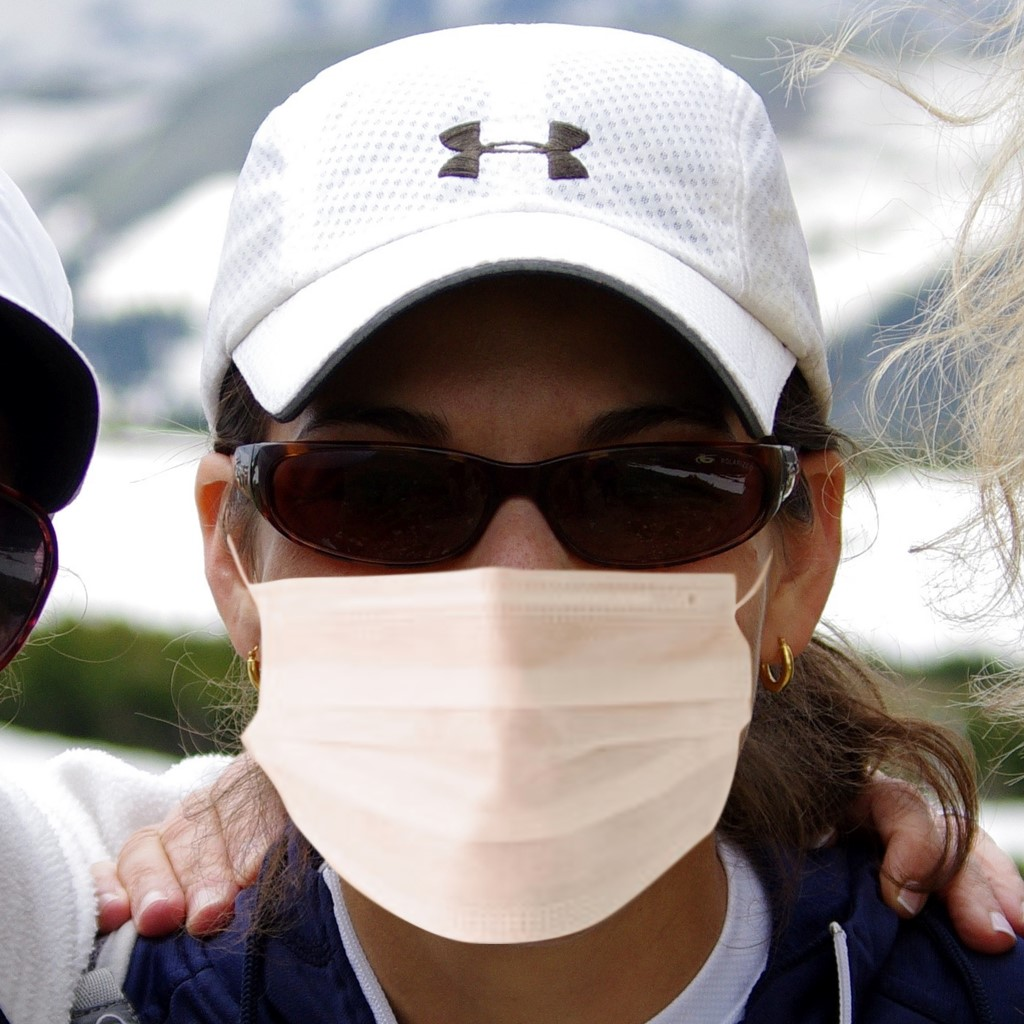con_mascara: (229, 311, 809, 929)
